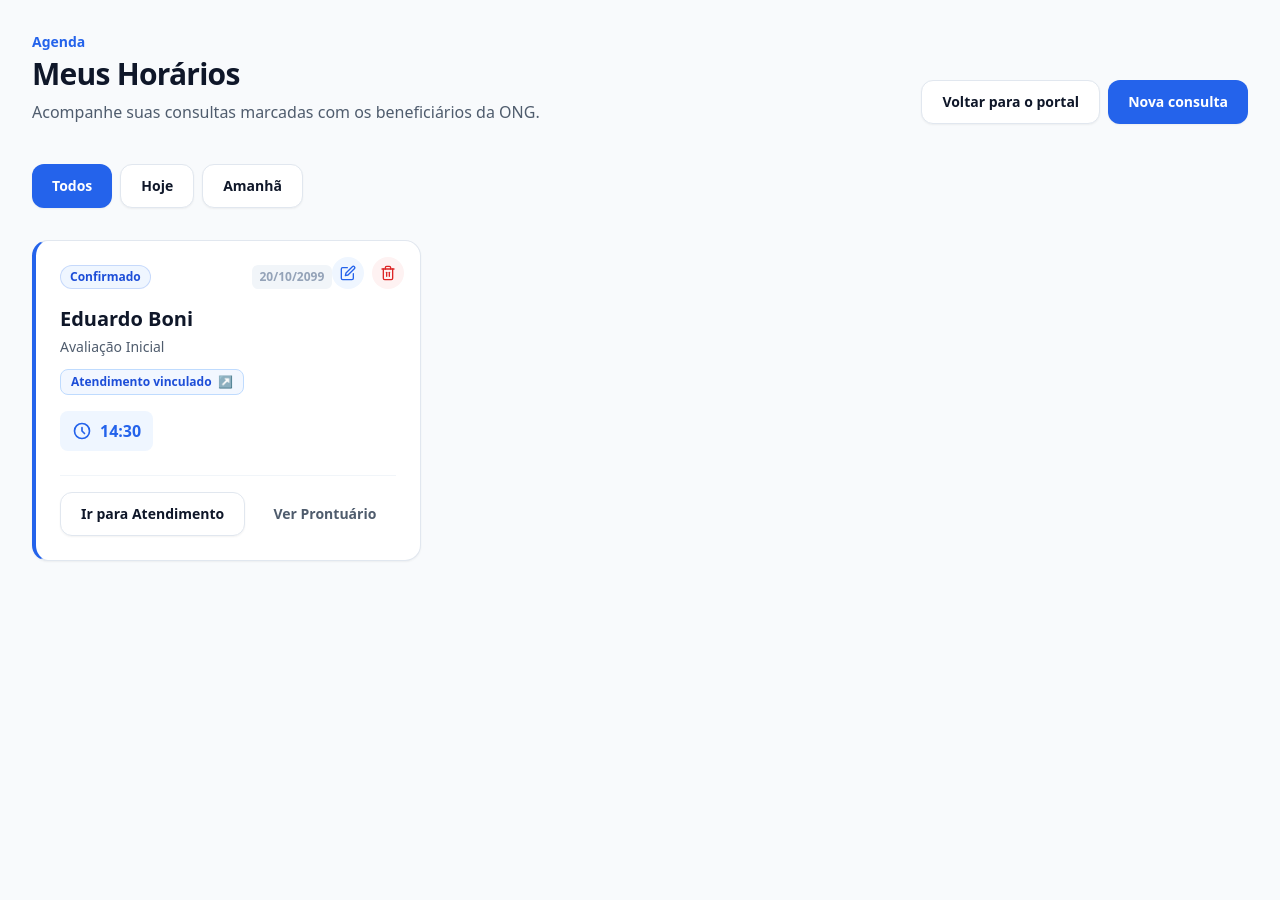
Test: AgendaConsultas › exibe opções humanas e preenche os dados da consulta vinculada
The image size is (1280, 900).
Click the button "Nova consulta" at {"x": 1178, "y": 102}, box [1108,80,1248,124]
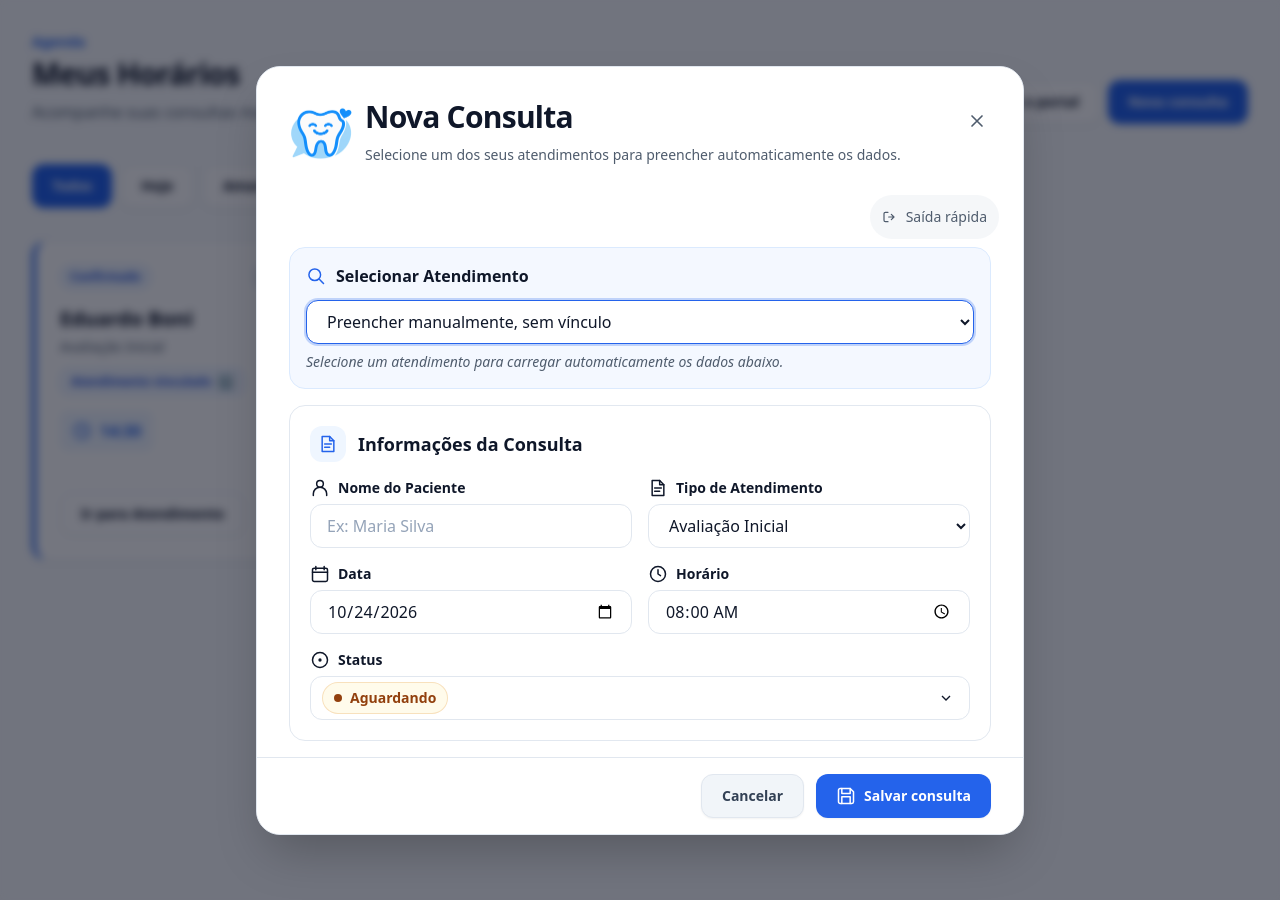
Now the dropdown labelled "Selecionar Atendimento" is enabled
Select "Eduardo Boni — 20/10/2099 às 14:30 — Avaliação Inicial" in the dropdown labelled "Selecionar Atendimento" at {"x": 640, "y": 322}, box [306,300,974,344]
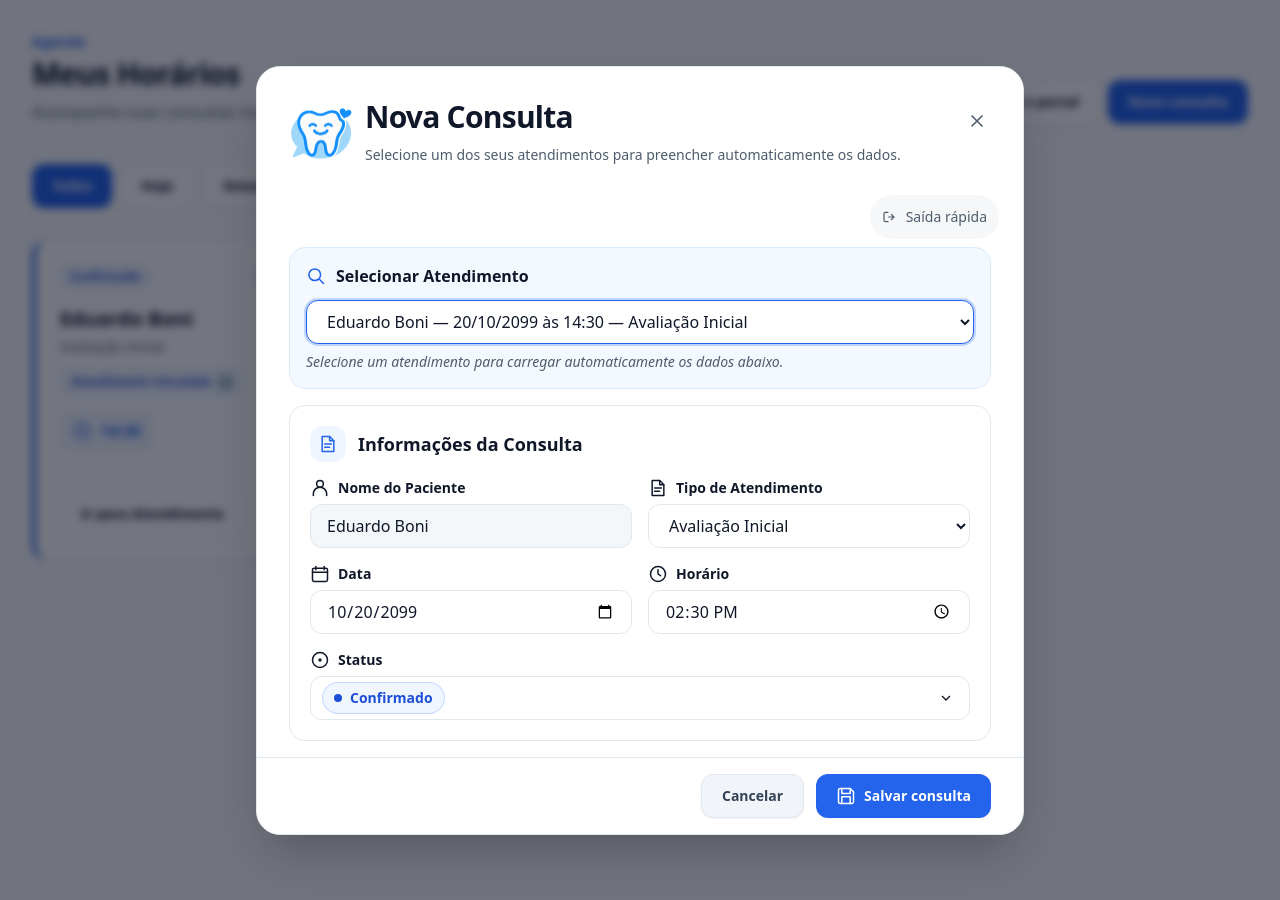
Now the dropdown labelled "Tipo de Atendimento" shows "Avaliação Inicial", box [648,504,970,548]
Now the field labelled "Nome do Paciente" holds "Eduardo Boni", box [310,504,632,548]
Now the date field labelled "Data" holds "2099-10-20", box [310,590,632,634]
